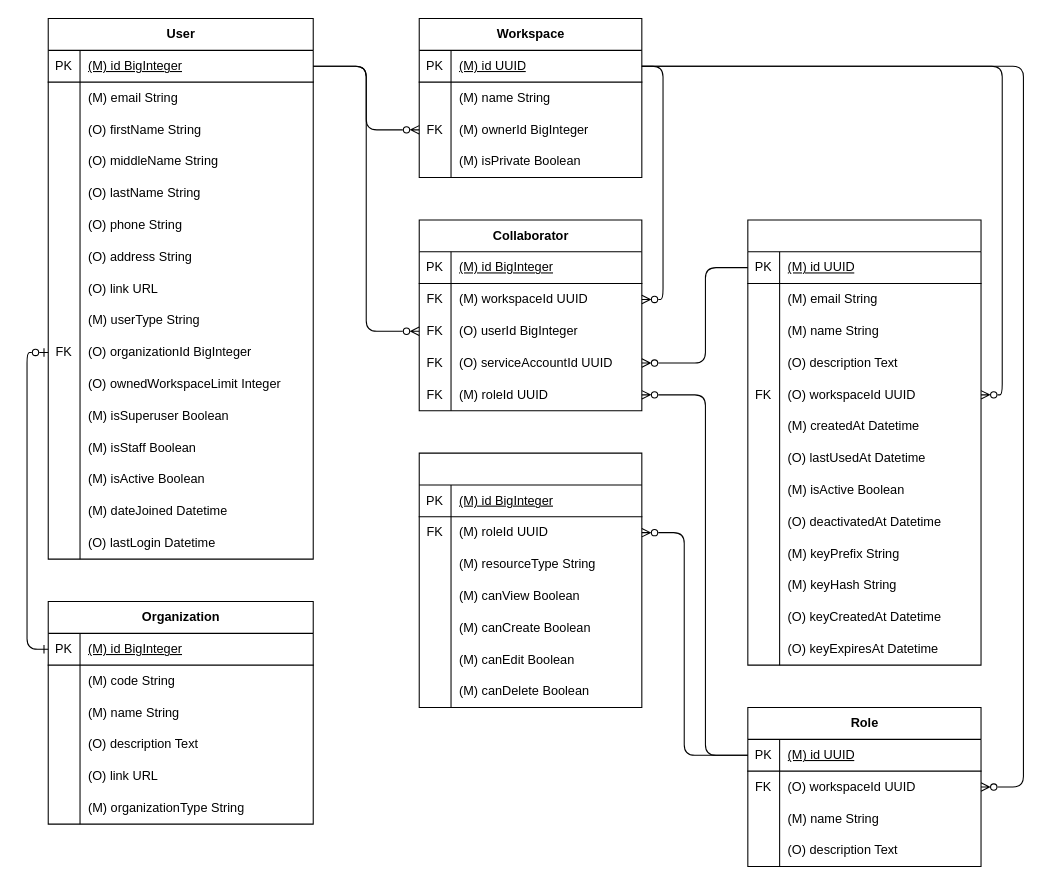
Image size: 1050x885. Some labels were removed from this diagram. Each missing label, with the box of its shape:
Permission: (418, 452, 642, 708)
ServiceAccount: (747, 219, 981, 665)
